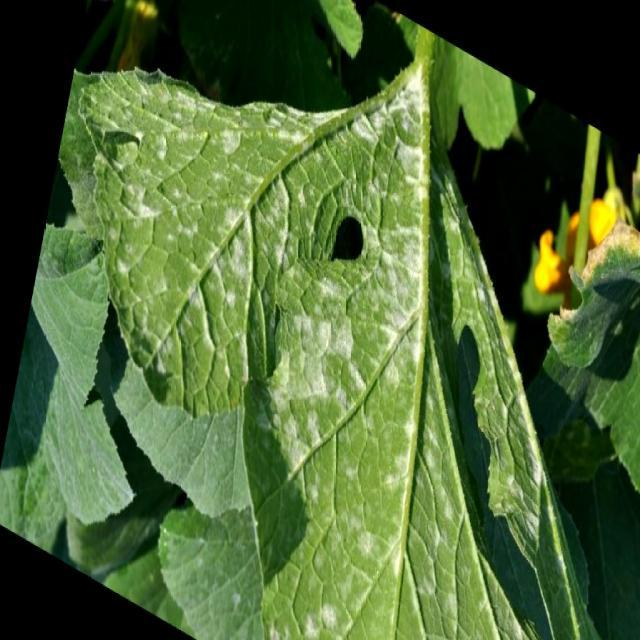Leaf_Mold: (292, 47, 577, 640), (78, 42, 336, 452), (225, 230, 430, 640)
